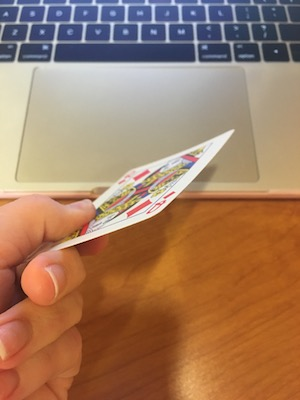QueenOfDiamonds: (64, 126, 241, 245)
